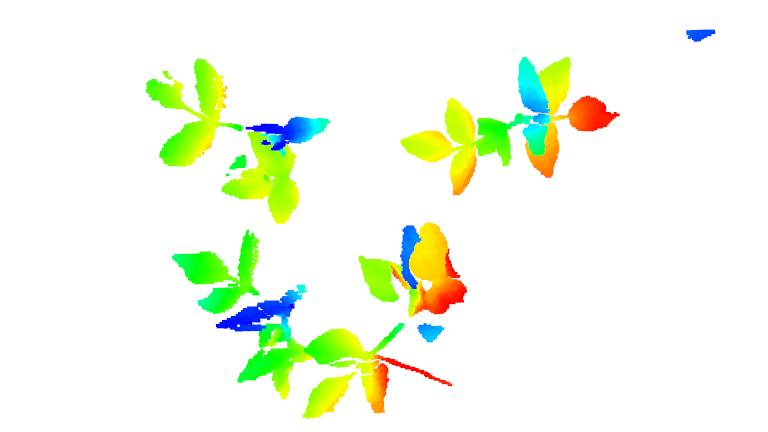mungbean: (398, 50, 625, 199), (304, 219, 463, 427), (142, 54, 335, 225), (172, 234, 317, 401)
